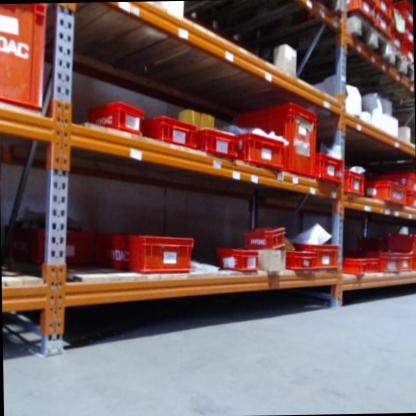pallet: (238, 8, 390, 98), (389, 33, 414, 95)
small_load_carrier: (231, 97, 318, 182), (0, 4, 55, 127), (91, 232, 193, 276), (83, 94, 149, 142), (31, 224, 96, 268), (143, 112, 200, 155), (235, 131, 286, 172), (284, 234, 338, 271), (361, 177, 408, 211), (195, 126, 238, 160), (214, 243, 258, 276), (243, 220, 289, 250), (315, 1, 372, 25), (314, 150, 344, 186), (366, 246, 399, 274), (380, 168, 416, 191), (280, 244, 313, 269), (341, 166, 366, 198), (373, 7, 394, 43), (340, 251, 367, 276), (380, 32, 398, 63), (389, 236, 416, 253), (392, 0, 413, 21), (368, 0, 388, 20), (388, 13, 405, 36), (397, 18, 410, 46), (397, 250, 412, 272), (366, 254, 382, 274), (401, 45, 413, 68), (403, 190, 415, 212), (413, 255, 416, 272)
